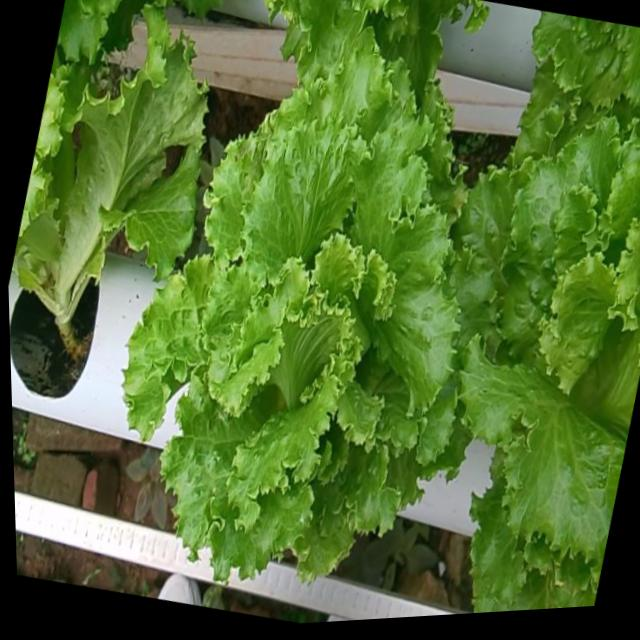Mature: (131, 63, 473, 590), (458, 126, 640, 575)
